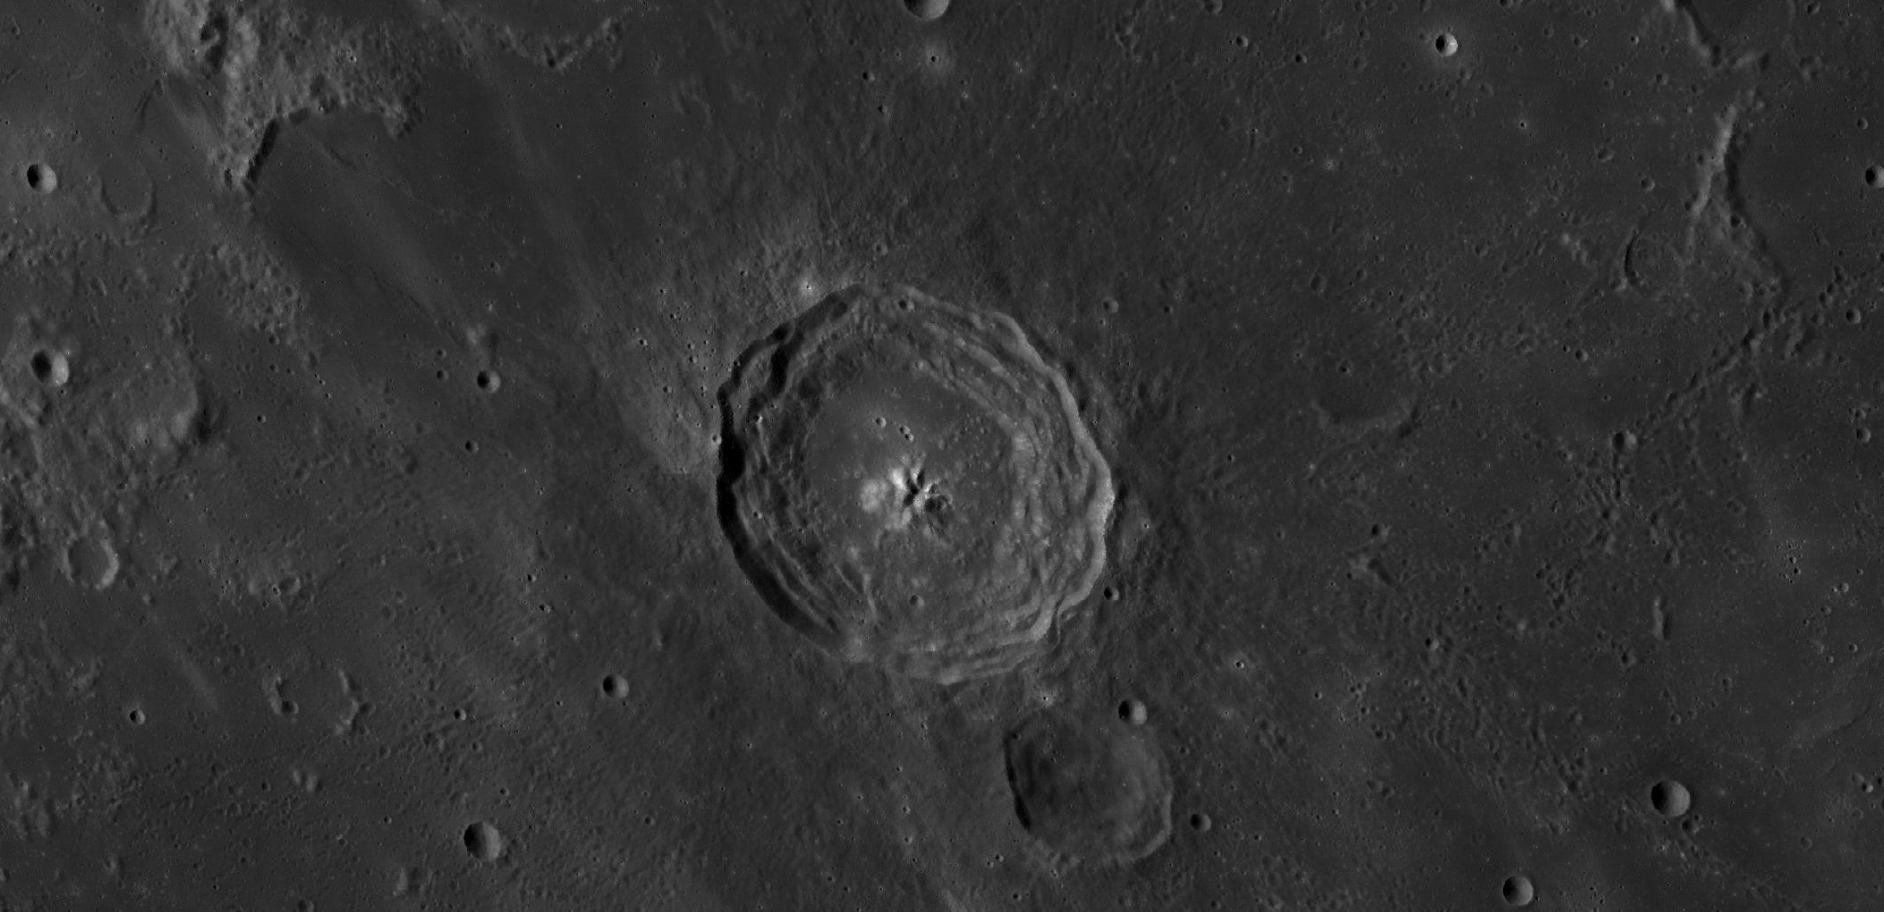crater: (657, 252, 1177, 689), (44, 515, 154, 628), (564, 636, 649, 729), (1630, 762, 1721, 847), (1409, 20, 1487, 88)
